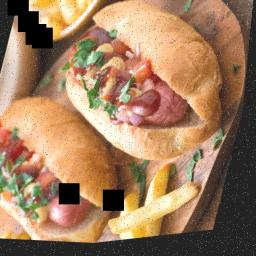hotdog: (34, 0, 256, 182), (0, 80, 136, 256)
